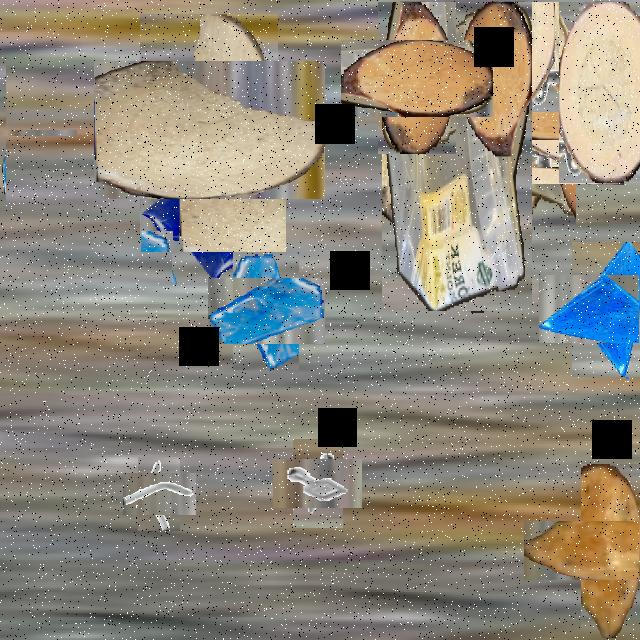glass: (156, 154, 270, 268), (555, 258, 640, 360), (220, 265, 312, 357), (0, 94, 41, 172)
metal: (526, 2, 588, 112), (283, 449, 353, 518), (130, 465, 188, 523)
plastic: (382, 2, 532, 311)
wood: (116, 38, 302, 222), (415, 23, 597, 205), (559, 2, 640, 183), (360, 20, 474, 136), (552, 492, 640, 609)
